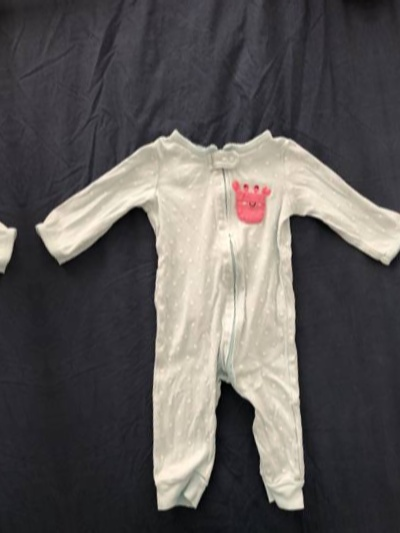Body: (24, 80, 400, 533), (0, 137, 61, 533), (382, 26, 400, 495), (90, 520, 400, 533)
